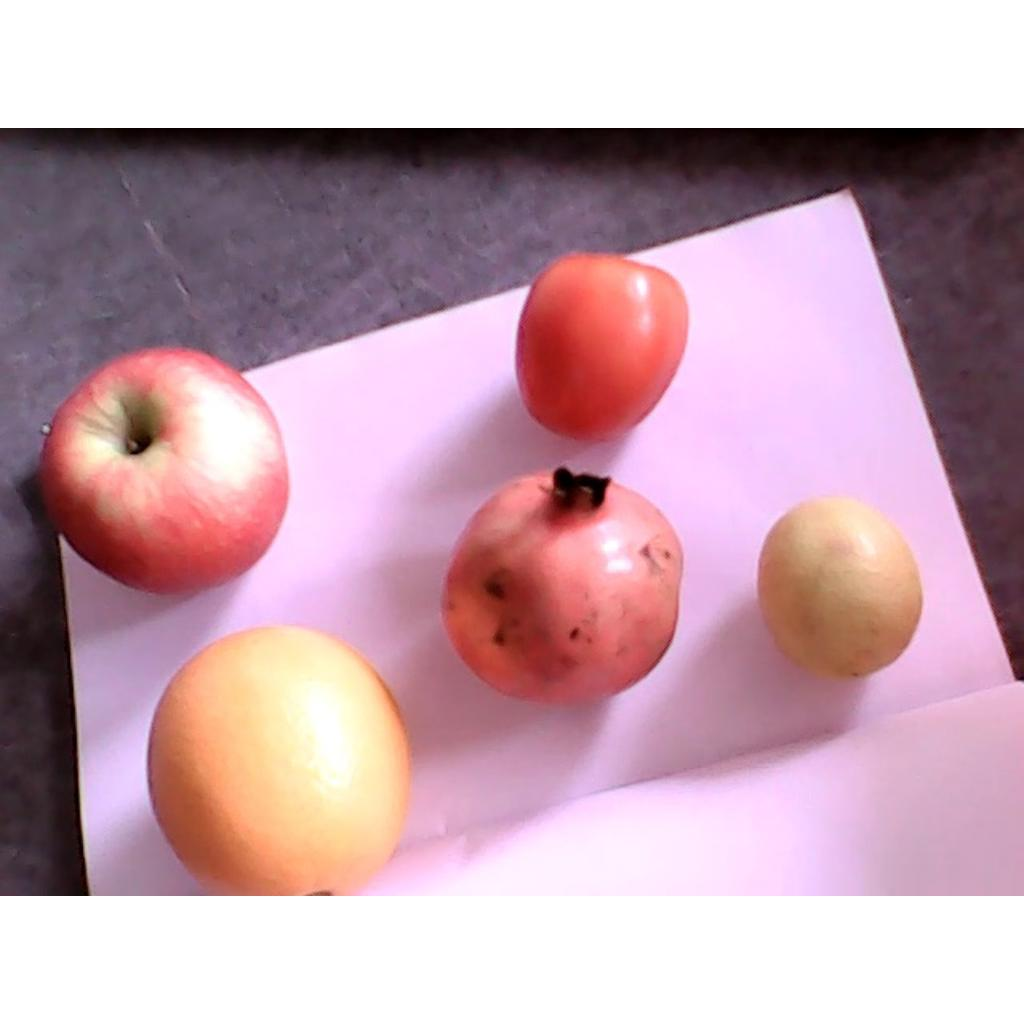apple: (40, 346, 290, 598)
lemon: (758, 500, 922, 678)
orange: (147, 628, 411, 894)
pomegranate: (440, 465, 683, 706)
tomato: (514, 254, 689, 444)
